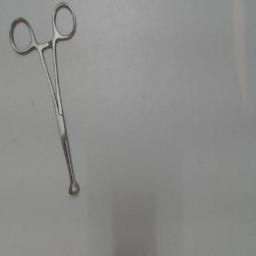Babcock Tissue Forceps: (6, 2, 82, 196)
